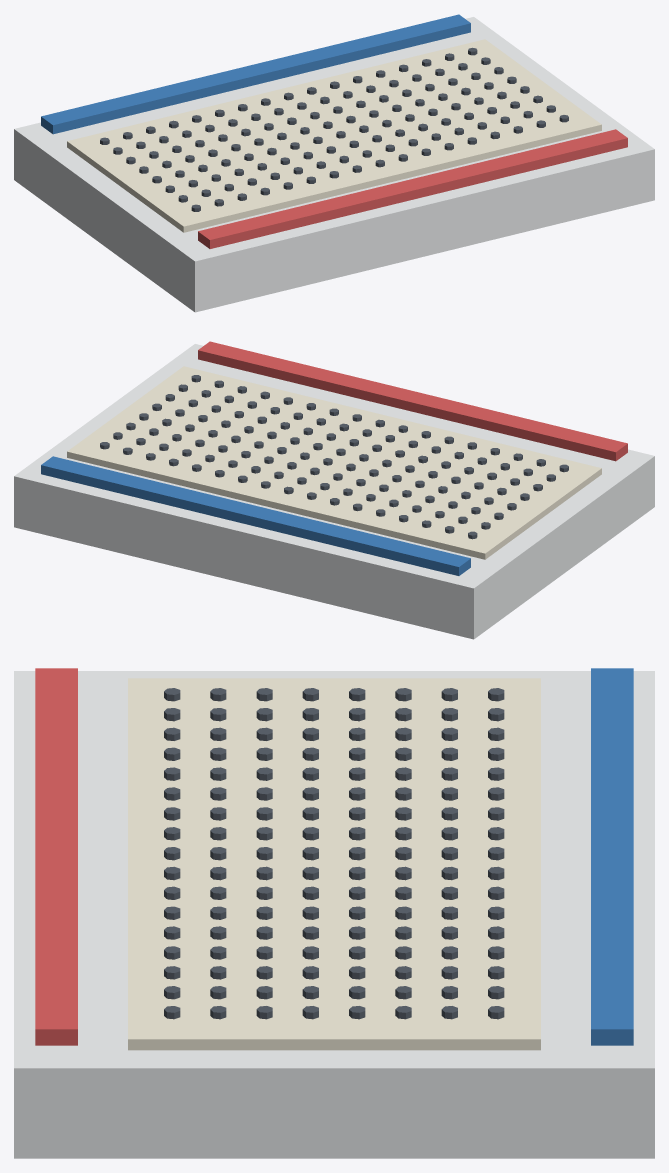
Rendered from product-22.glb.
3 renders of one model, top to bottom at view 1: azimuth 30°, elevation 25°; view 2: azimuth 150°, elevation 25°; view 3: azimuth 270°, elevation 25°, orthographic. The views are drawn at different scales.
Visible parts, largest first — view 1: product-22; view 2: product-22; view 3: product-22.
Boxes of the visible parts, x1,y1,x2,y2 form: product-22: (14,14,654,312); product-22: (14,341,654,639); product-22: (14,668,654,1158).
Size of the model in its own units: 1.32 by 0.1725 by 0.9.
